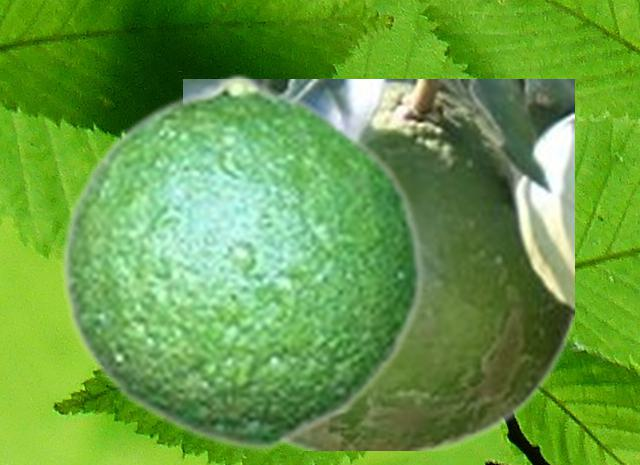dalandan: (183, 79, 573, 449), (57, 72, 424, 451)
